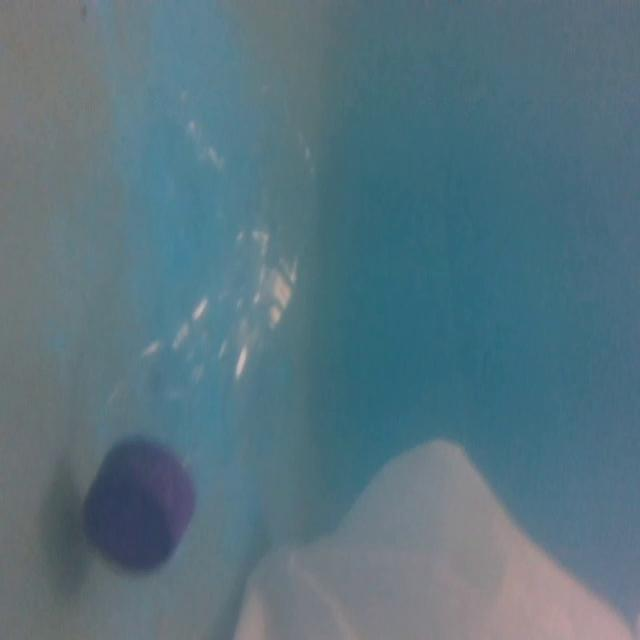plastic bags: (229, 432, 630, 640)
plastic bottle: (77, 76, 311, 576)
